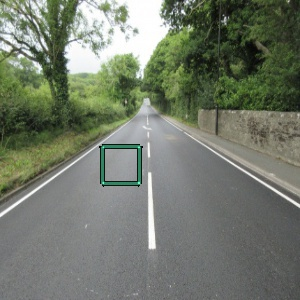square: (98, 142, 144, 188)
